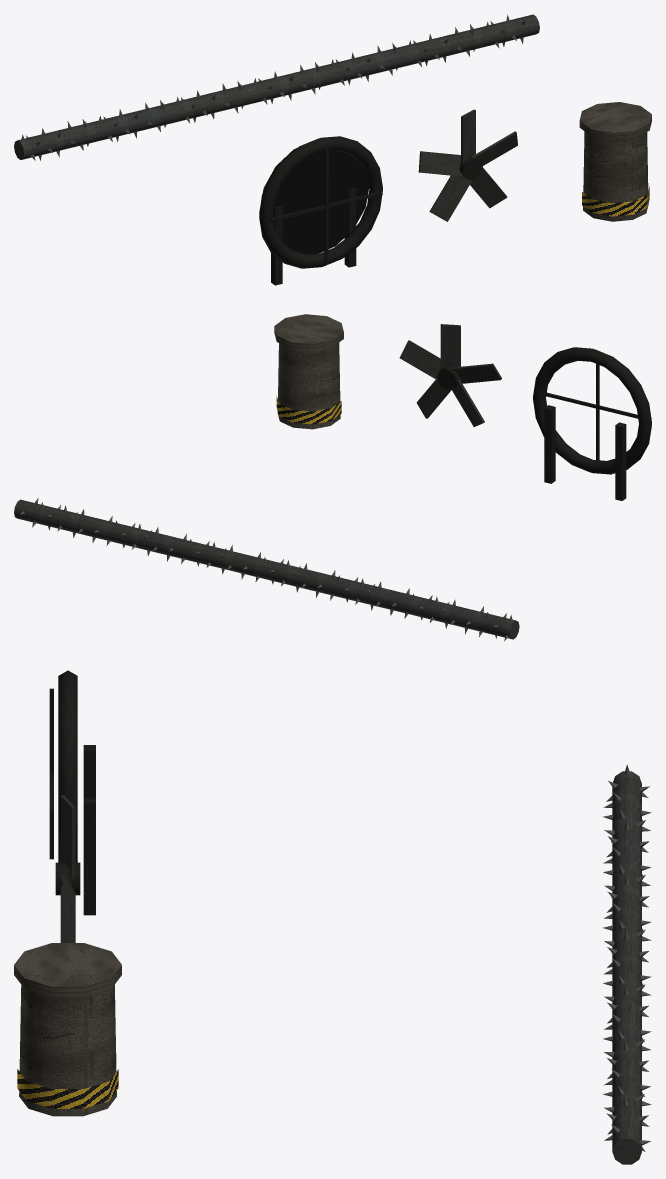
File: turbine.glb
3 views of the same model, one above another, from view 1: azimuth 30°, elevation 25°; view 2: azimuth 150°, elevation 25°; view 3: azimuth 270°, elevation 25° (orthographic). The views are drawn at different scales.
Parts seen in each view (by area): view 1: fan_frame, shredder_drum, pillar, fan_blades; view 2: shredder_drum, pillar, fan_frame, fan_blades; view 3: pillar, shredder_drum, fan_frame, fan_blades.
Boxes of the visible parts, x1,y1,x2,y2 form: fan_frame: (259, 136, 382, 285); shredder_drum: (14, 14, 539, 160); pillar: (579, 102, 651, 221); fan_blades: (418, 109, 517, 221); shredder_drum: (14, 498, 519, 641); pillar: (274, 314, 343, 429); fan_frame: (533, 347, 651, 500); fan_blades: (399, 324, 501, 426); pillar: (14, 943, 121, 1116); shredder_drum: (602, 764, 651, 1164); fan_frame: (49, 670, 95, 915); fan_blades: (55, 795, 80, 942).
Size of the model in its own units: 14 by 3.68 by 10.27.
7 materials, 6 textured.
